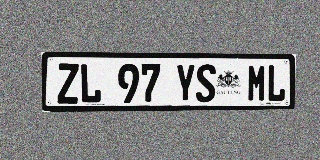7: (140, 64, 161, 103)
9: (118, 64, 139, 103)
L: (80, 63, 101, 103), (267, 65, 286, 102)
M: (247, 64, 267, 102)
S: (196, 64, 216, 102)
Y: (175, 64, 195, 103)
Z: (57, 63, 79, 104)
